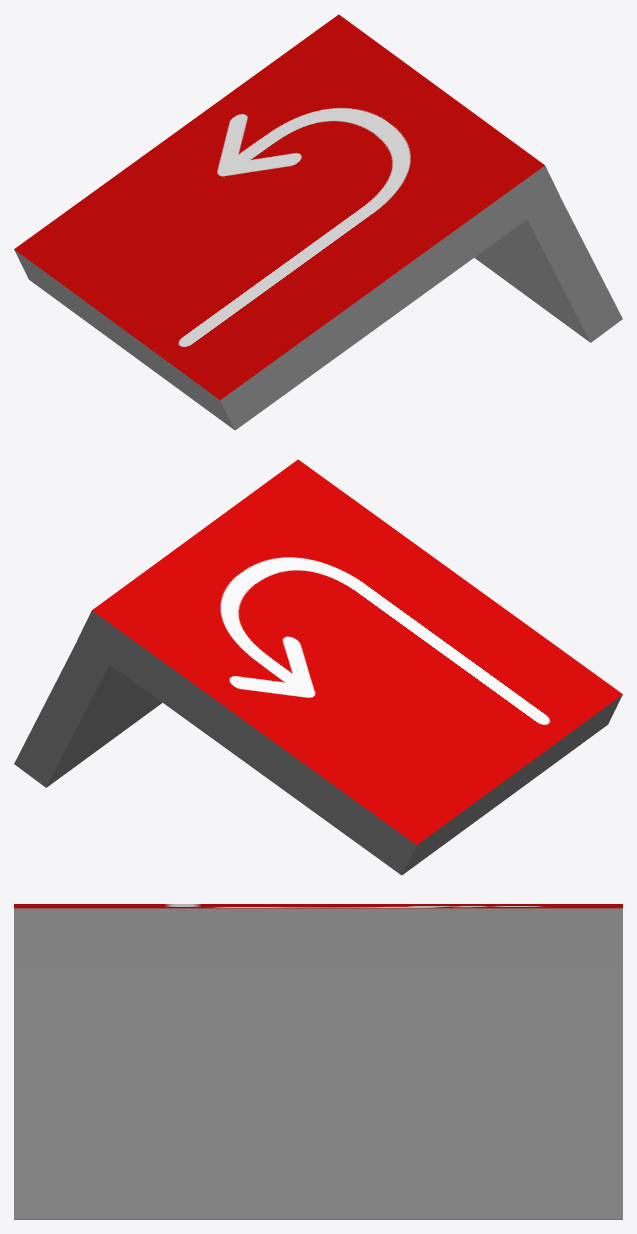
The model's file is hairpinL.fbx.
3 views of the same model, one above another, from view 1: azimuth 30°, elevation 25°; view 2: azimuth 150°, elevation 25°; view 3: azimuth 270°, elevation 25° (orthographic). The views are drawn at different scales.
Visible parts, largest first — view 1: sign_back; view 2: sign_back; view 3: sign_back.
Boxes of the visible parts, x1=… form: sign_back: x1=14, y1=14, x2=622, y2=430; sign_back: x1=14, y1=459, x2=622, y2=875; sign_back: x1=14, y1=904, x2=622, y2=1219.
Size of the model in its own units: 225 by 101 by 200.
